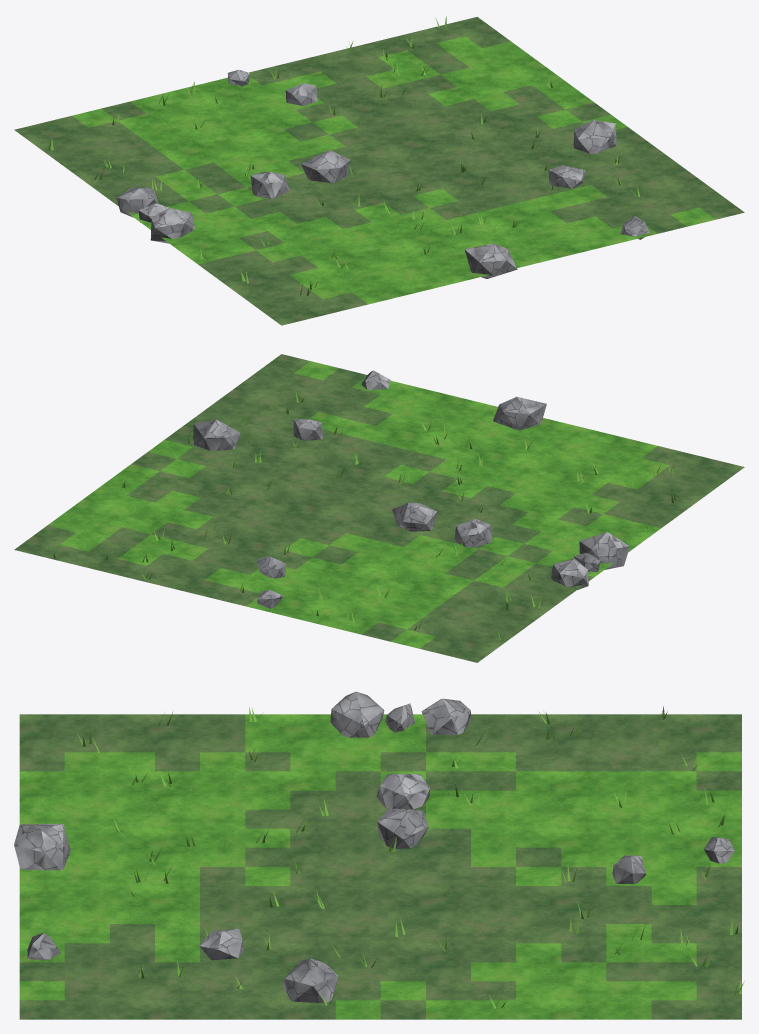
Rendered from chunk_10_2.glb.
3 renders of one model, top to bottom at view 1: azimuth 30°, elevation 25°; view 2: azimuth 150°, elevation 25°; view 3: azimuth 270°, elevation 25°, orthographic. The views are drawn at different scales.
Parts seen in each view (by area): view 1: chunk_10_2; view 2: chunk_10_2; view 3: chunk_10_2.
Boxes of the visible parts, <box> form: chunk_10_2: <box>14,16,744,325</box>; chunk_10_2: <box>14,354,744,662</box>; chunk_10_2: <box>14,691,743,1019</box>.
Size of the model in its own units: 16.2 by 1.3 by 16.19.
4 materials, 3 textured.
